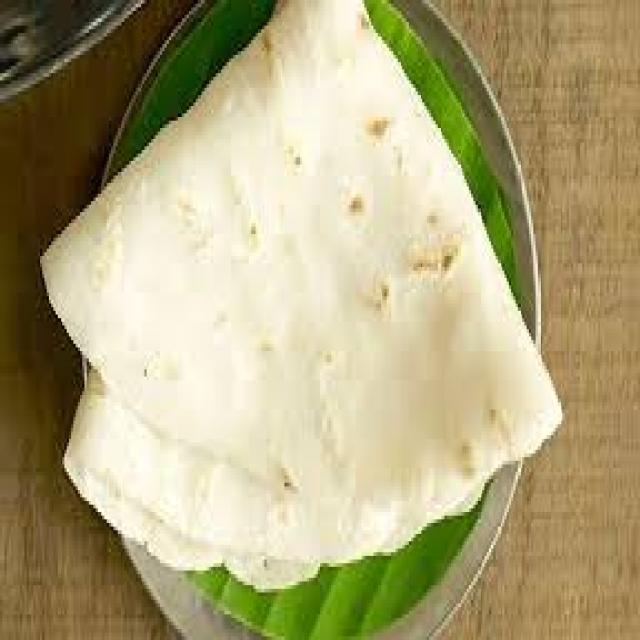RICE BHAKRI: (40, 0, 560, 633)
